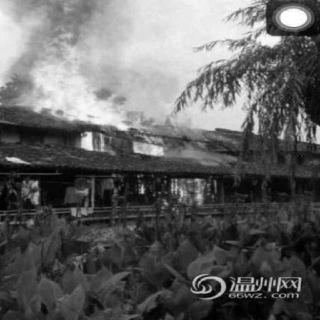Fire: (21, 2, 133, 118), (100, 113, 212, 155), (161, 176, 217, 204)
